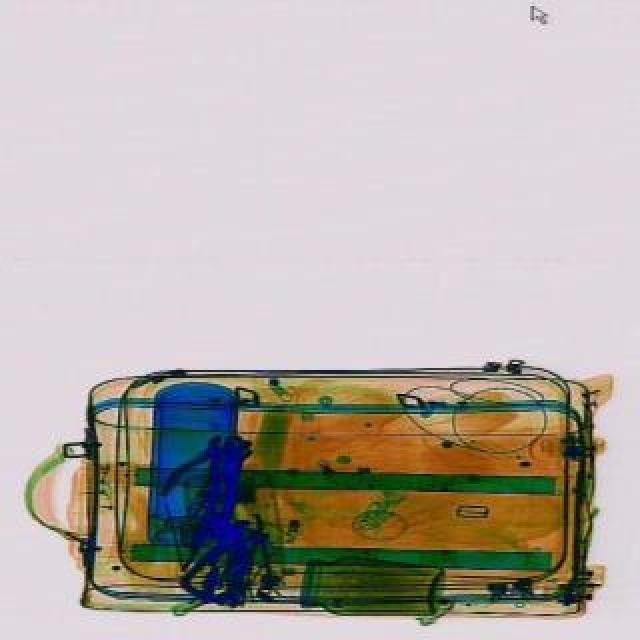wrench: (150, 422, 252, 526)
